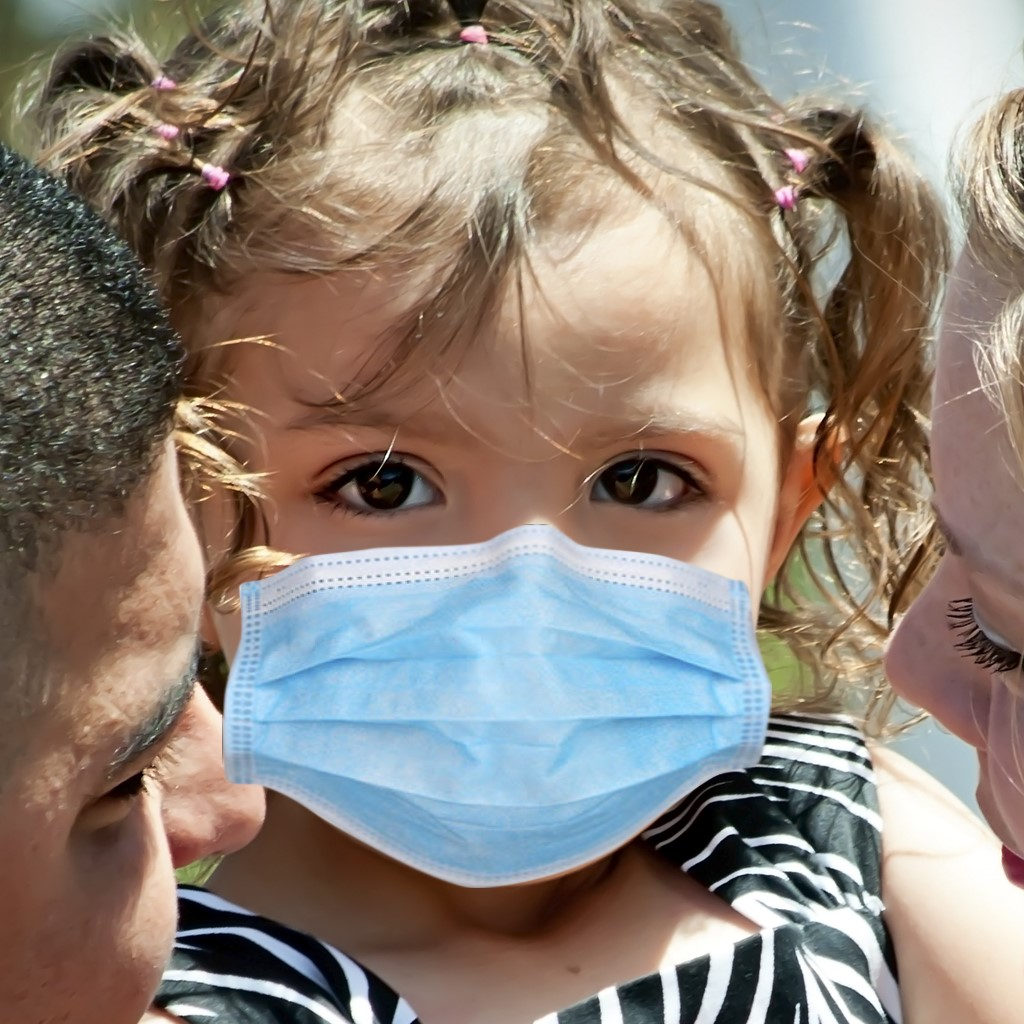con_mascara: (175, 102, 798, 912)
